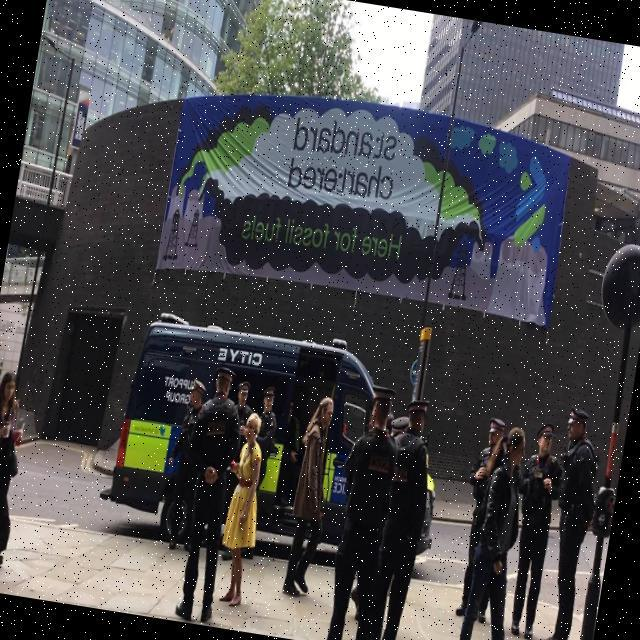Standard Chartered: (285, 116, 401, 204)
